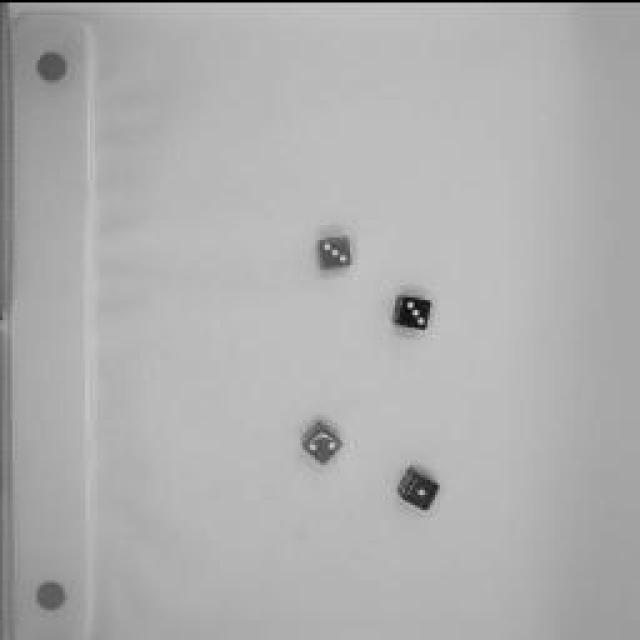dice_1: (391, 465, 444, 513)
dice_2: (296, 416, 346, 472)
dice_3: (310, 229, 355, 271), (390, 291, 435, 329)
